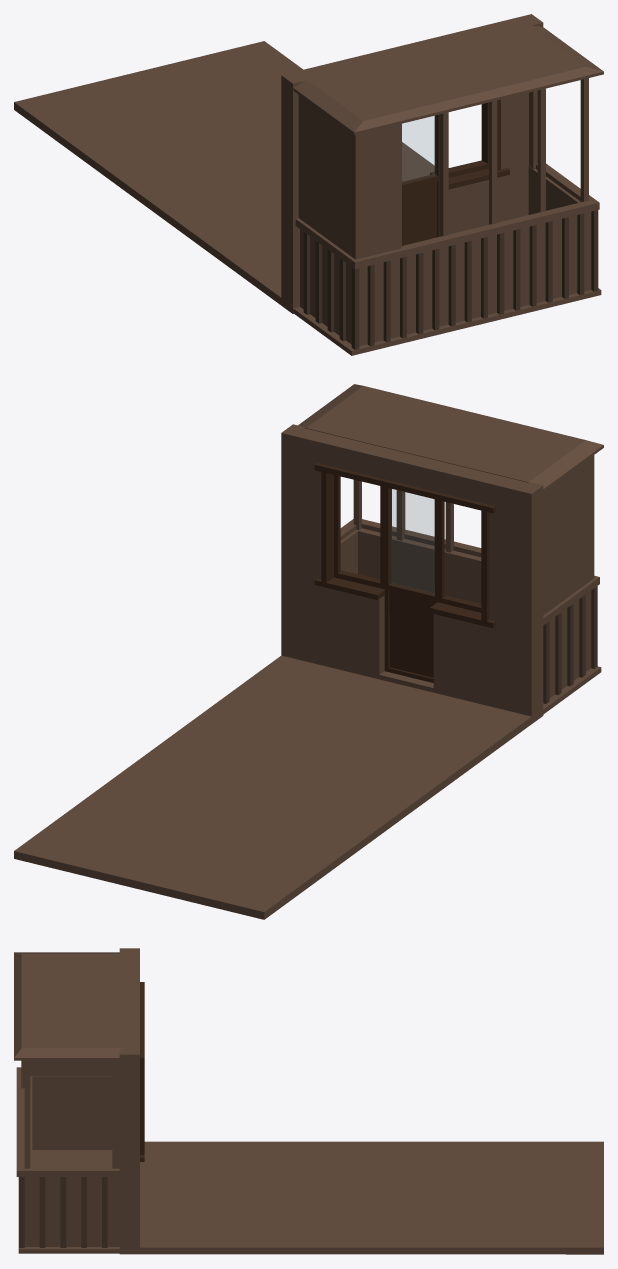
File: Middle_floor_Balcony_type4.FBX
The picture shows the model from 3 angles, top to bottom: view 1: azimuth 30°, elevation 25°; view 2: azimuth 150°, elevation 25°; view 3: azimuth 270°, elevation 25°; orthographic projection. The views are drawn at different scales.
Visible parts, largest first — view 1: Hub_3_balcony_021, Balcony_door_009; view 2: Hub_3_balcony_021, Balcony_door_009; view 3: Hub_3_balcony_021.
Part boxes in pixels (x1=…): Hub_3_balcony_021: x1=14, y1=14, x2=603, y2=355; Balcony_door_009: x1=402, y1=114, x2=439, y2=245; Hub_3_balcony_021: x1=14, y1=384, x2=603, y2=919; Balcony_door_009: x1=384, y1=487, x2=438, y2=682; Hub_3_balcony_021: x1=14, y1=948, x2=603, y2=1254.
Bounding box in the file's own units: 319 × 749 × 281.
